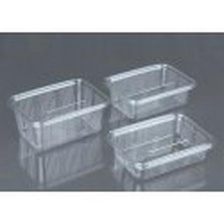plastic_box: (1, 71, 115, 157), (99, 107, 218, 186), (100, 57, 202, 126)
